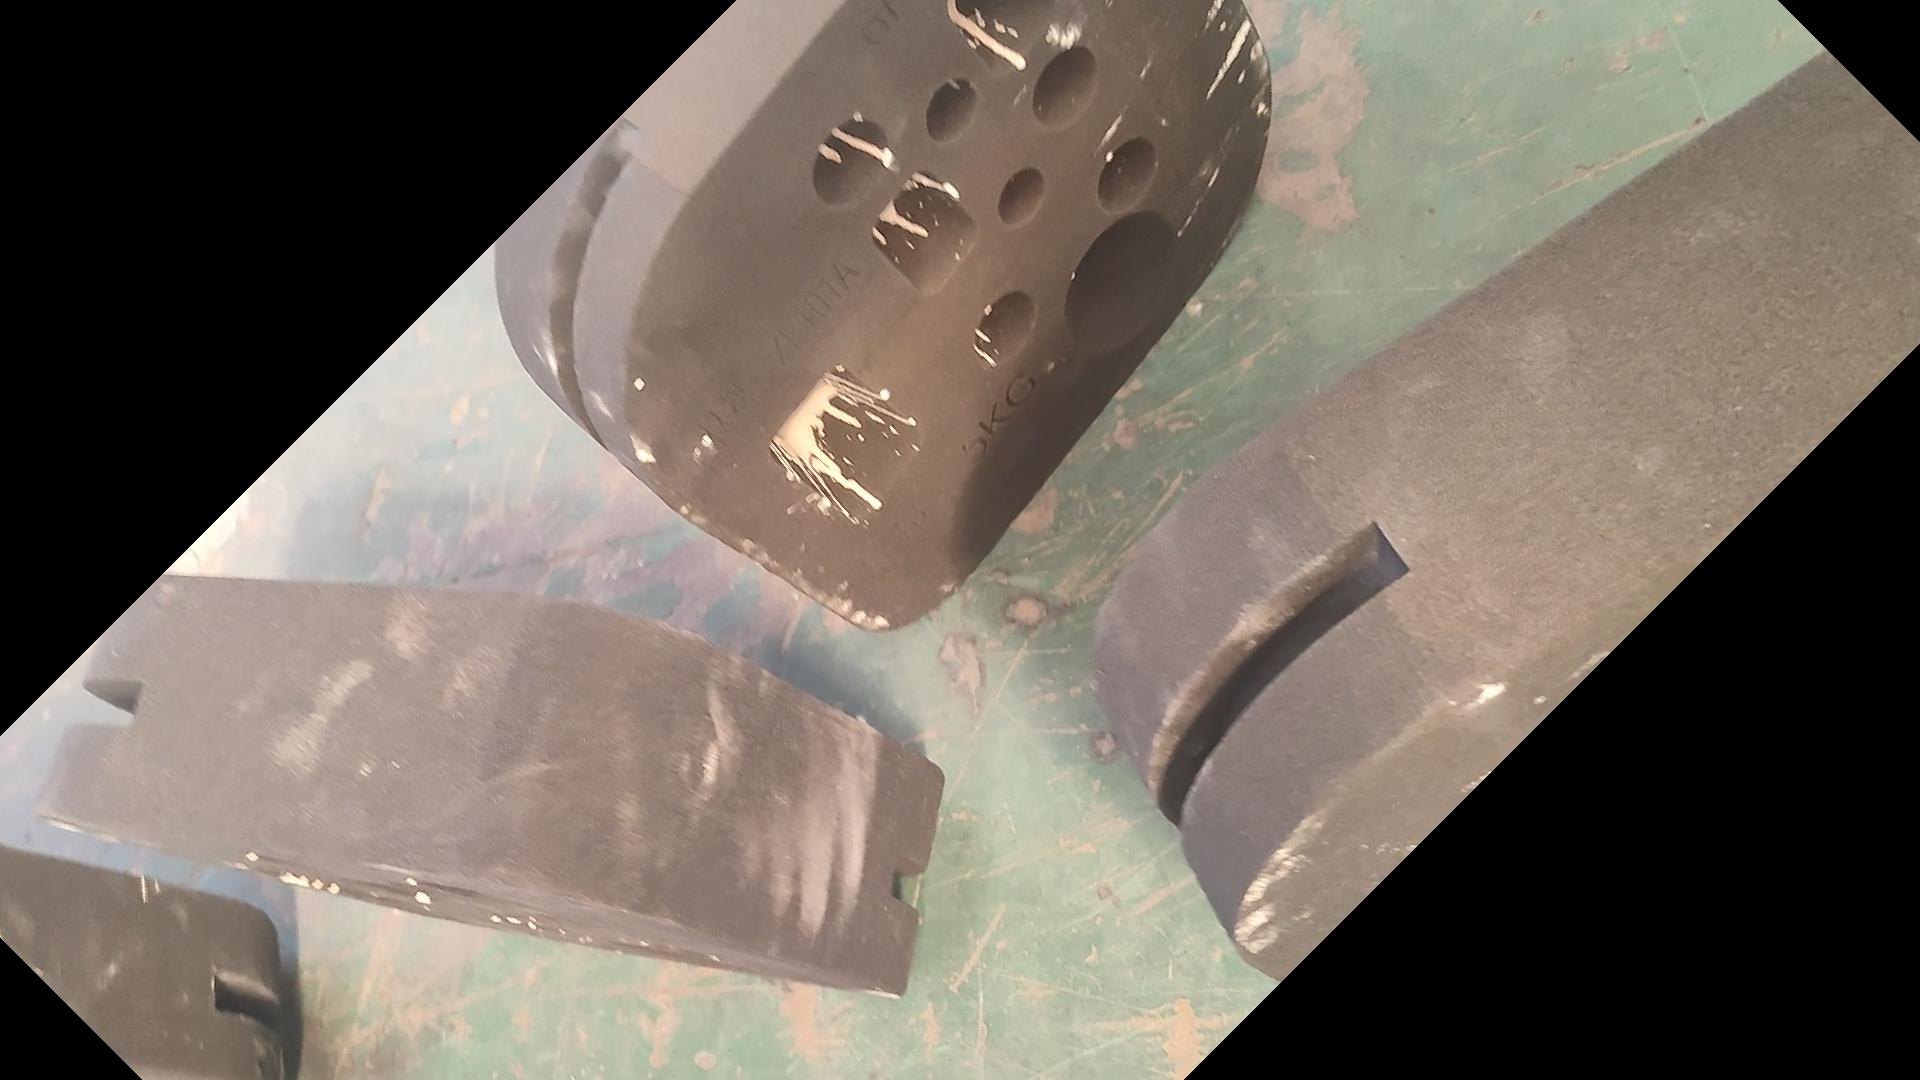pouring hole: (1063, 212, 1178, 348), (612, 945, 754, 975)
